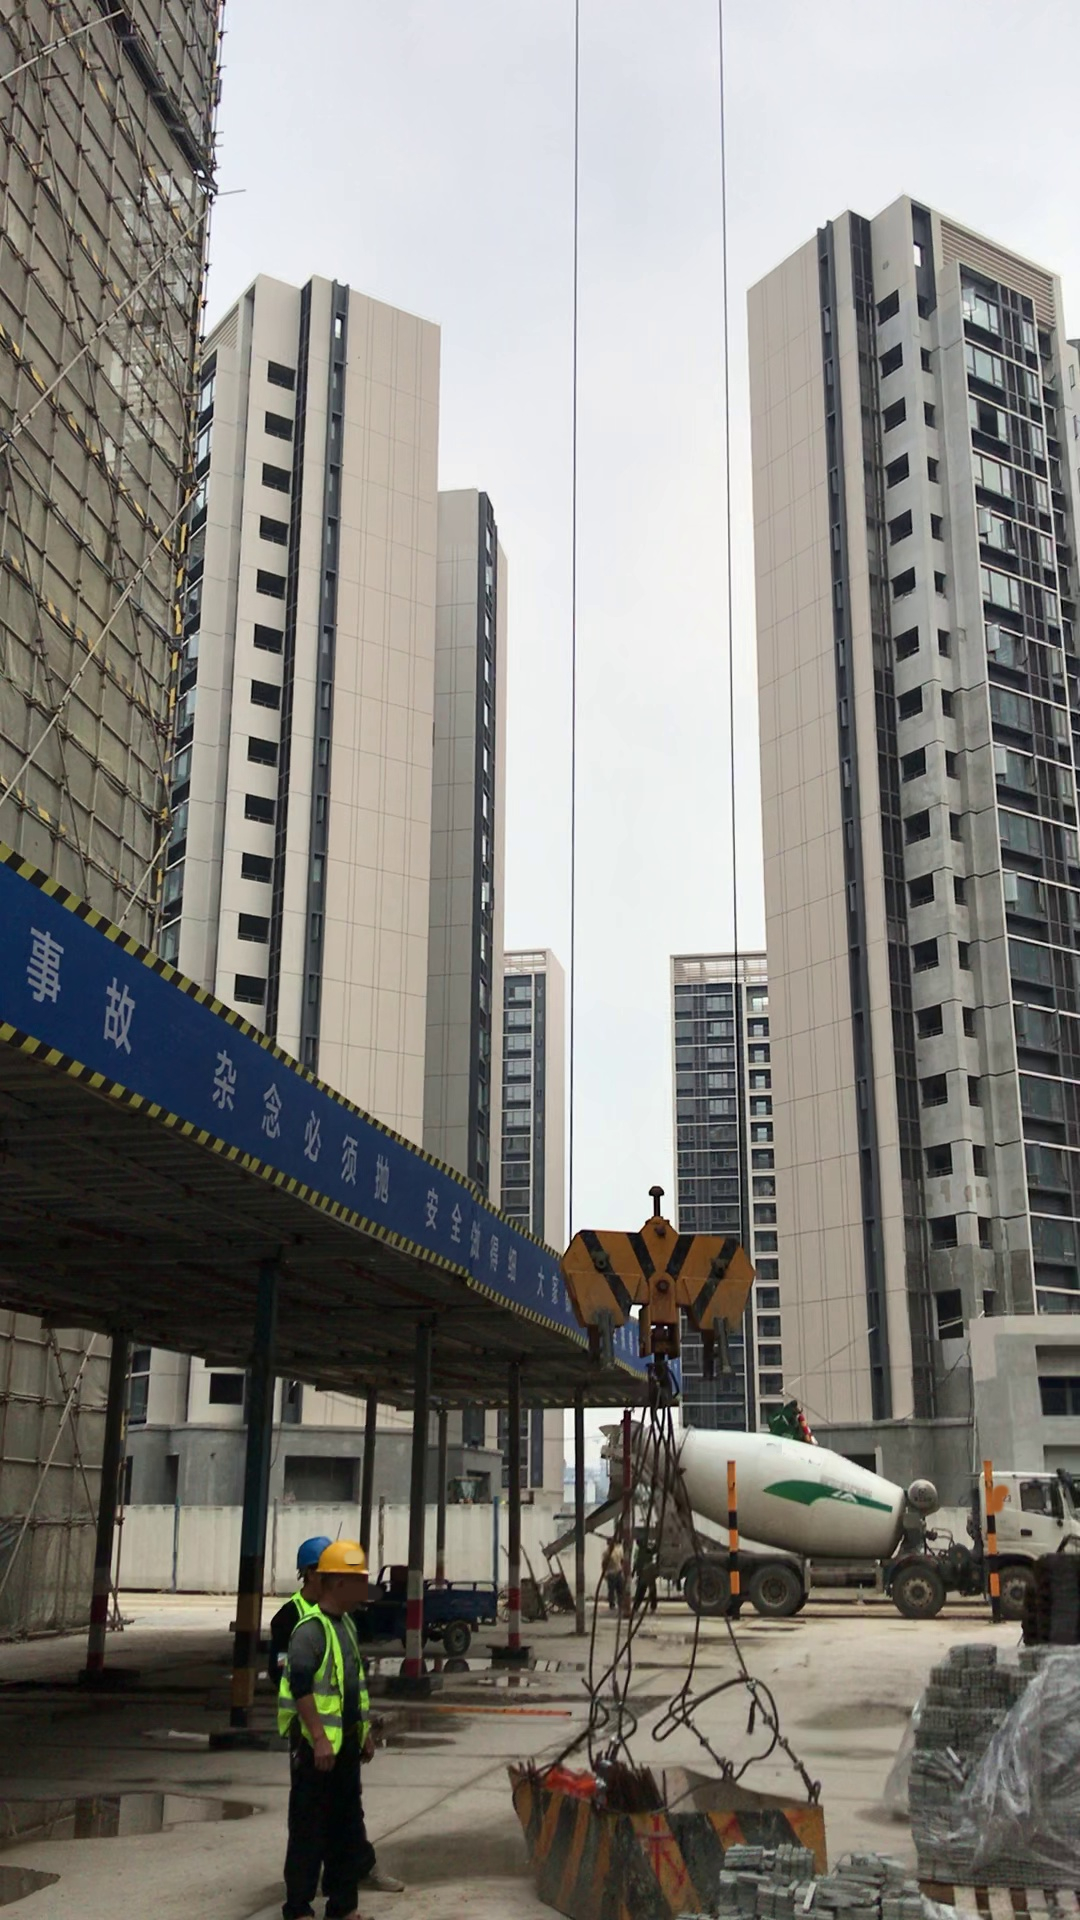handcart: (491, 1538, 586, 1633)
helmet: (310, 1533, 400, 1581), (281, 1534, 330, 1575)
hook: (555, 1184, 753, 1358)
person: (272, 1540, 376, 1920), (268, 1537, 330, 1740)
slogan: (13, 883, 556, 1337)
vest: (292, 1606, 378, 1754)
